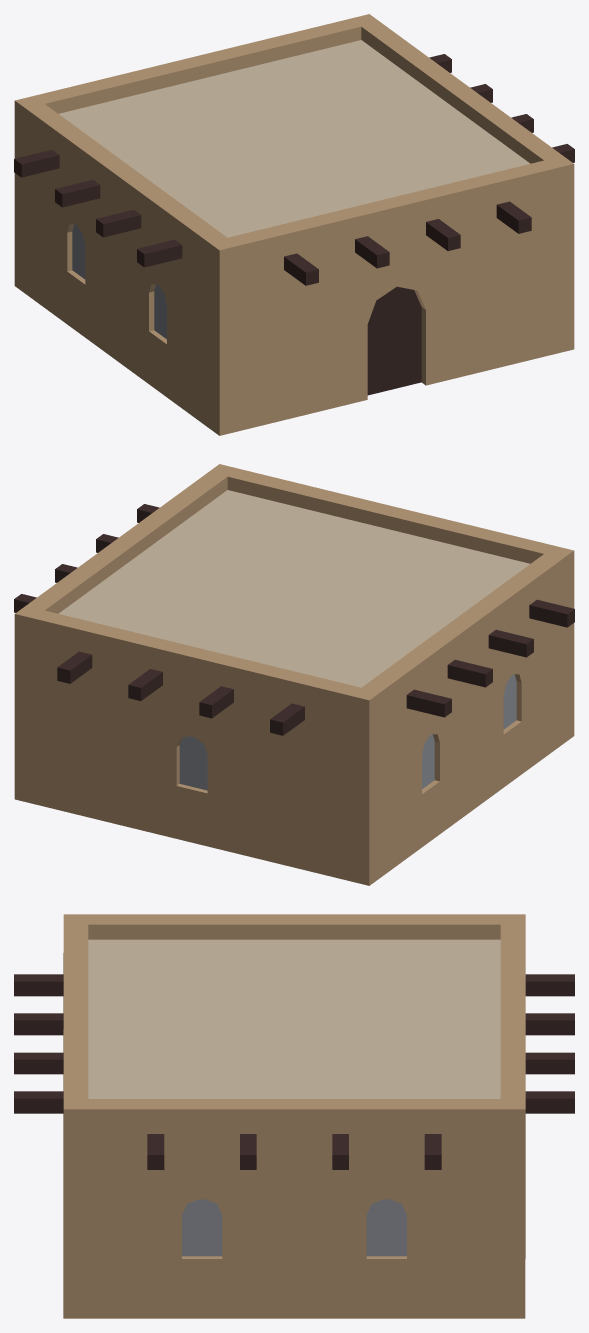
The model's file is Square_House.fbx.
The picture shows the model from 3 angles, top to bottom: view 1: azimuth 30°, elevation 25°; view 2: azimuth 150°, elevation 25°; view 3: azimuth 270°, elevation 25°; orthographic projection. The views are drawn at different scales.
Parts seen in each view (by area): view 1: Square_House; view 2: Square_House; view 3: Square_House.
Part boxes in pixels (box(x1,y1,x2,y2)): Square_House: box(14, 14, 574, 435); Square_House: box(14, 464, 574, 885); Square_House: box(14, 914, 574, 1318).
Size of the model in its own units: 1700 by 700 by 1700.
Materials: 1 (1 with a texture image).
